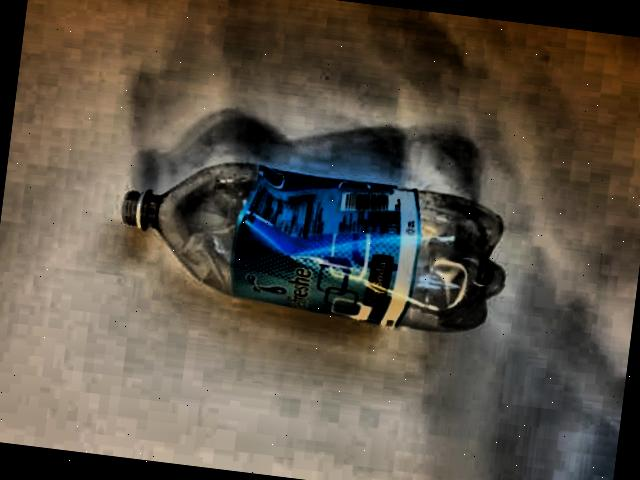Bottles: (92, 132, 536, 352)
